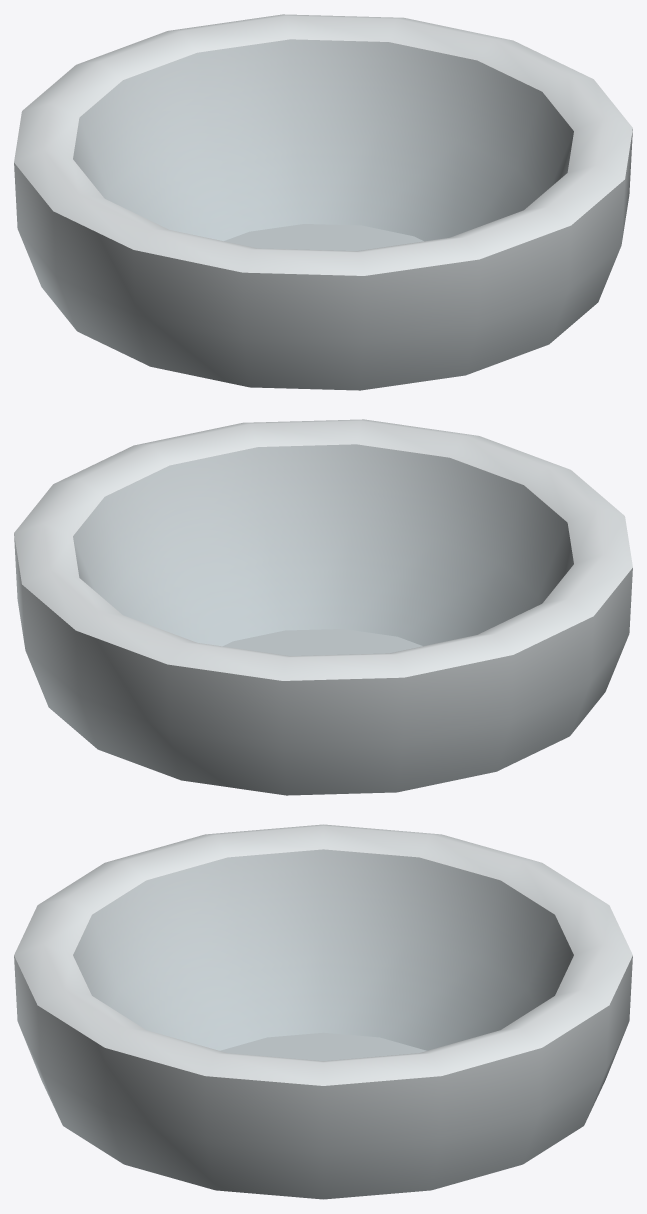
File: bowl.obj
The picture shows the model from 3 angles, top to bottom: view 1: azimuth 30°, elevation 25°; view 2: azimuth 150°, elevation 25°; view 3: azimuth 270°, elevation 25°; orthographic projection.
Parts seen in each view (by area): view 1: bowl_Sphere.095; view 2: bowl_Sphere.095; view 3: bowl_Sphere.095.
Part boxes in pixels (<box>): bowl_Sphere.095: <box>14,14,632,390</box>; bowl_Sphere.095: <box>14,419,632,795</box>; bowl_Sphere.095: <box>14,824,632,1199</box>.
Bounding box in the file's own units: 0.95 × 0.3 × 0.95.
Materials: 1 (1 with a texture image).
